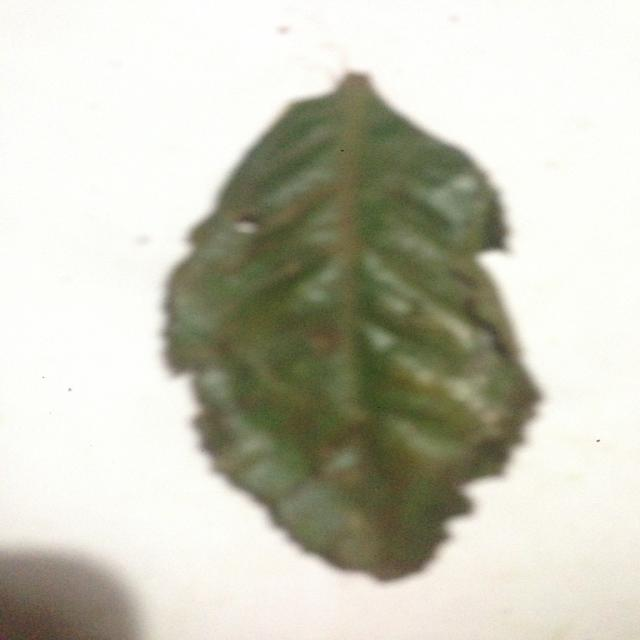Red Leaf Spot: (131, 70, 543, 606)
